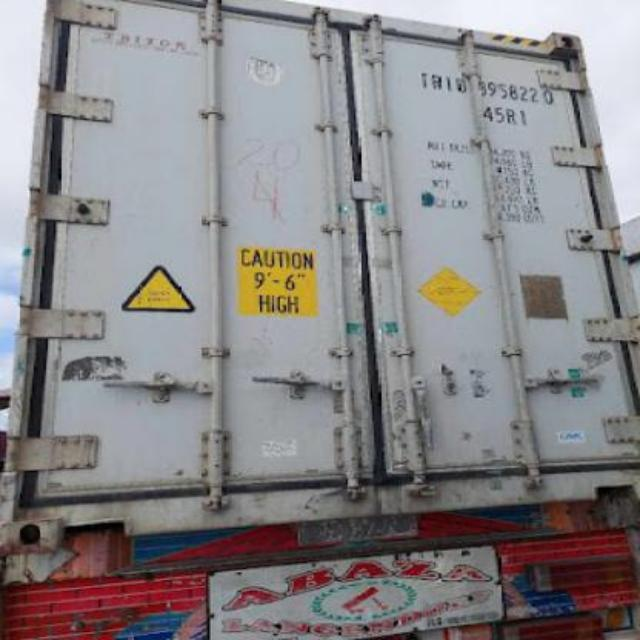0: (542, 89, 554, 105)
2: (518, 82, 530, 102), (530, 86, 538, 104)
5: (496, 84, 508, 96)
8: (476, 78, 486, 96), (510, 83, 520, 101)
9: (486, 80, 498, 96)
I: (444, 73, 456, 93)
R: (431, 73, 444, 93)
T: (412, 68, 430, 88)
U: (454, 75, 468, 95)
